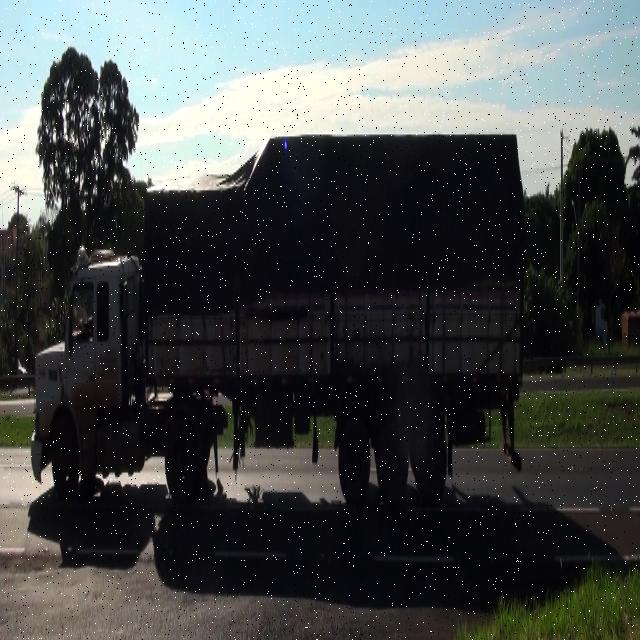-axle: (376, 416, 410, 505), (338, 416, 370, 507), (415, 422, 446, 506), (167, 422, 195, 499), (50, 429, 74, 504)
